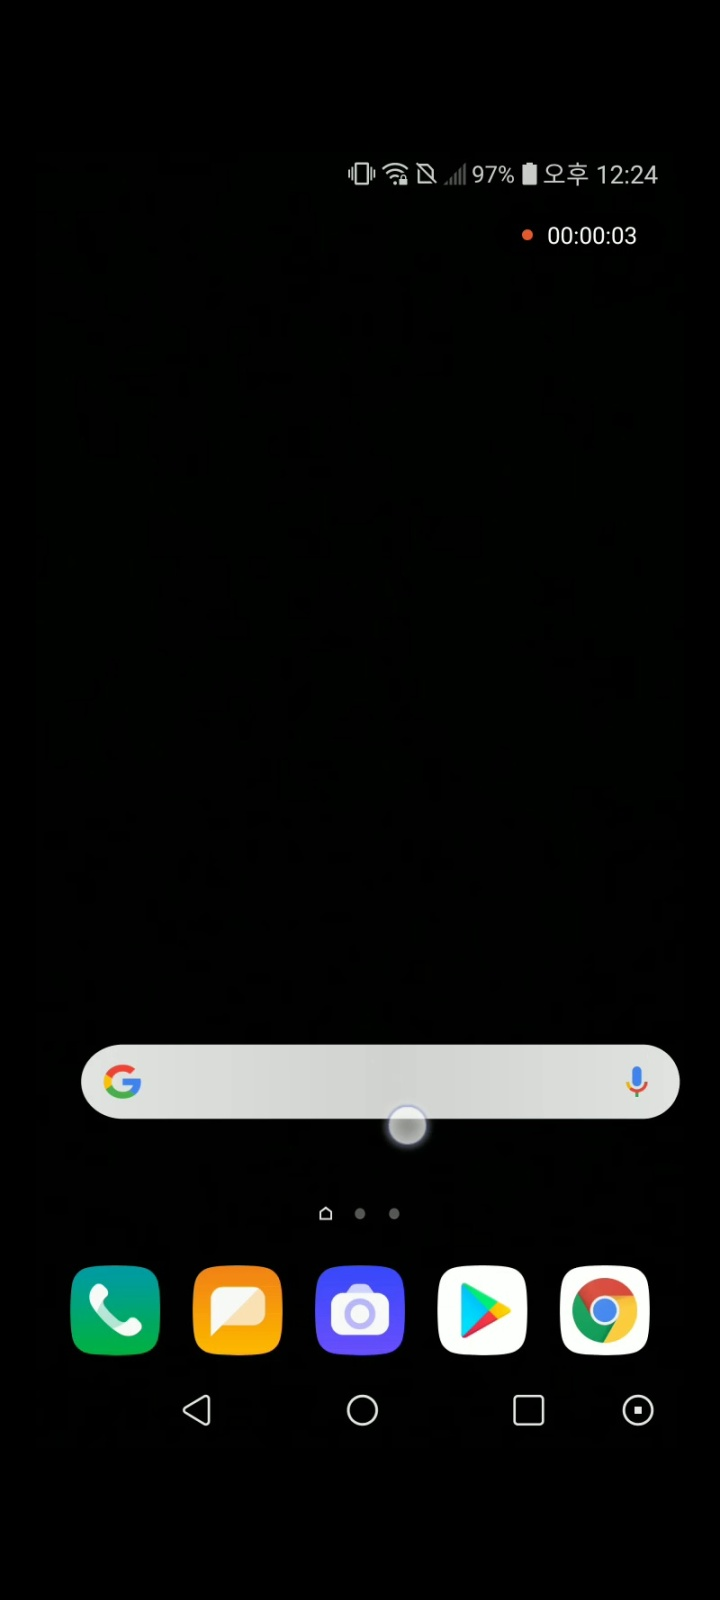Cursor: (385, 1104, 431, 1149)
